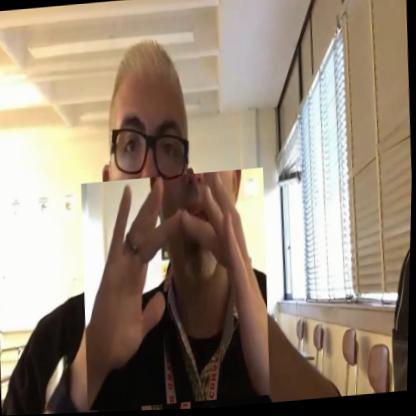Internet: (78, 169, 275, 412)
